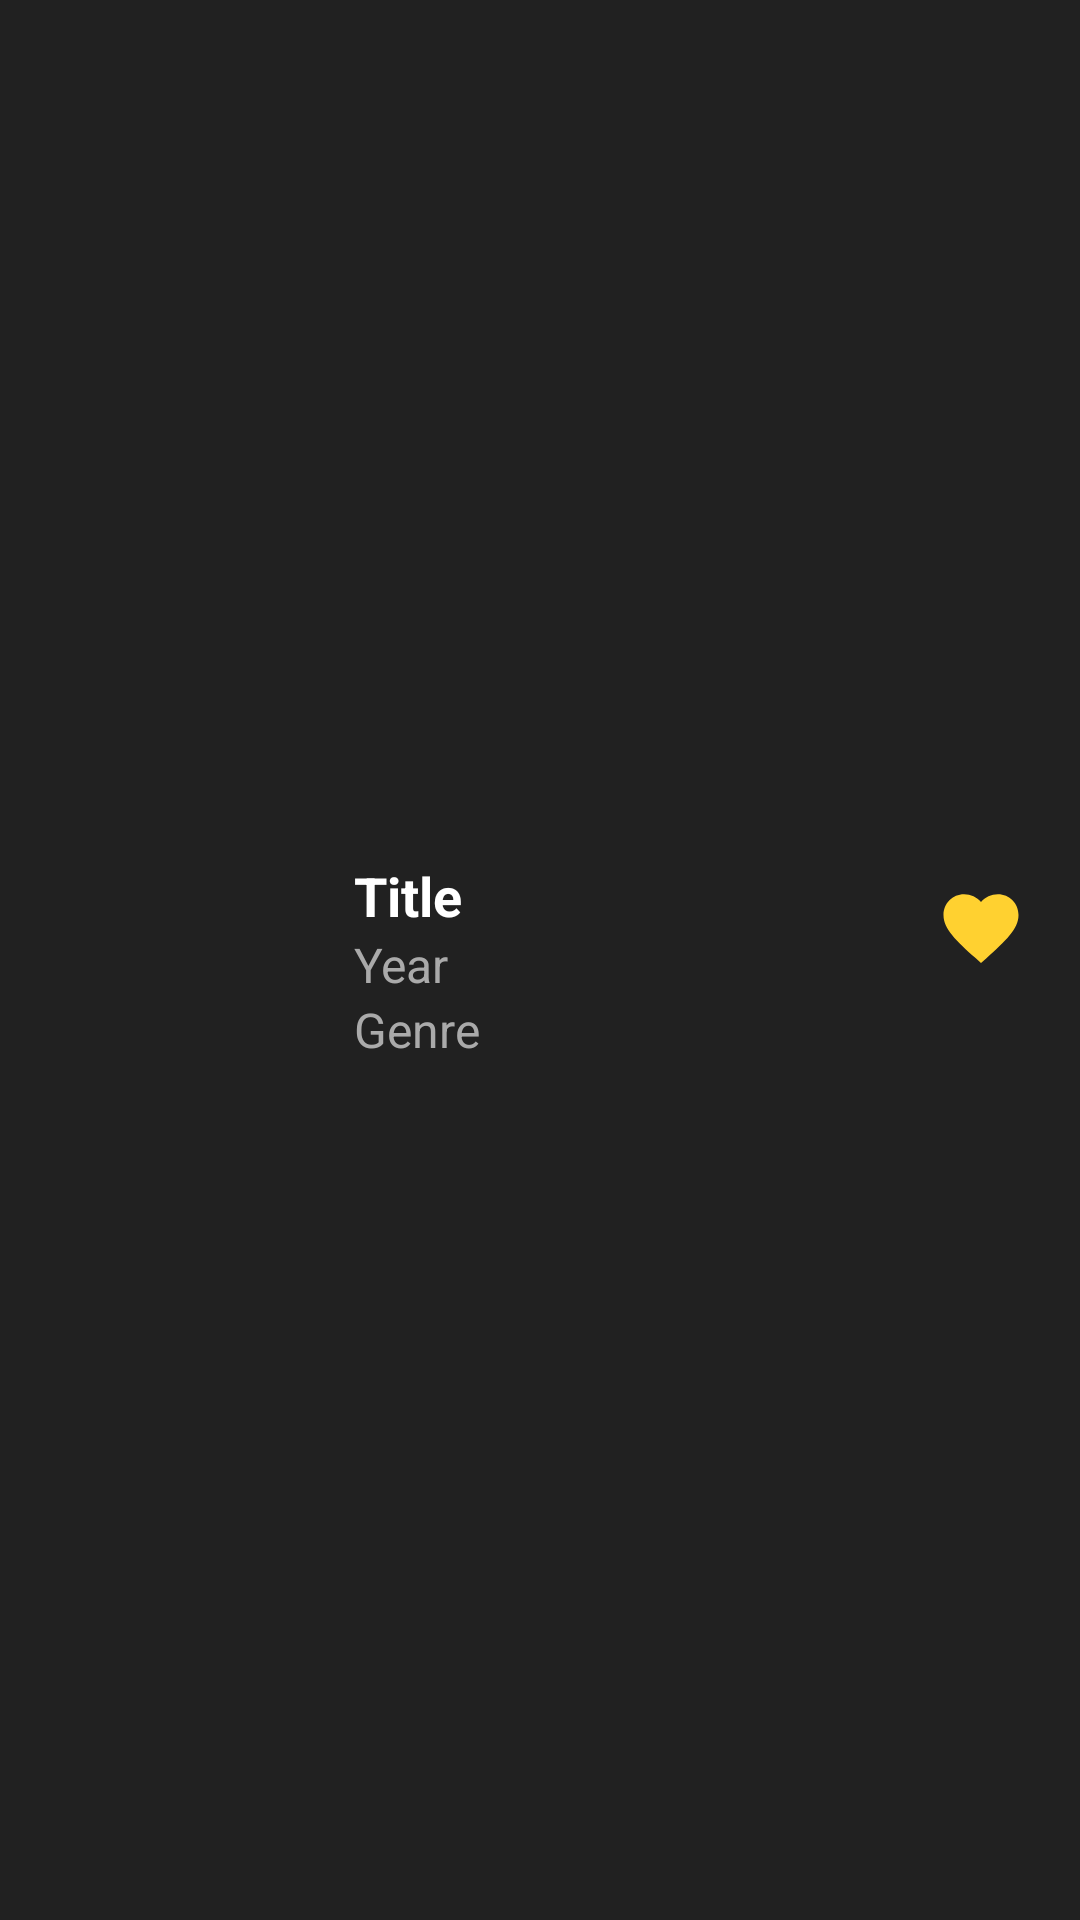

Where to tap for icons on this 1080w x 1920h app screen, as [x,y]:
unfavorite: [981,928]
